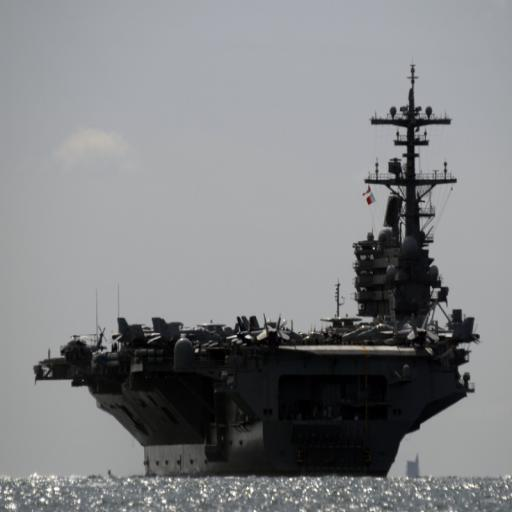Portanaves: (35, 36, 483, 487)
